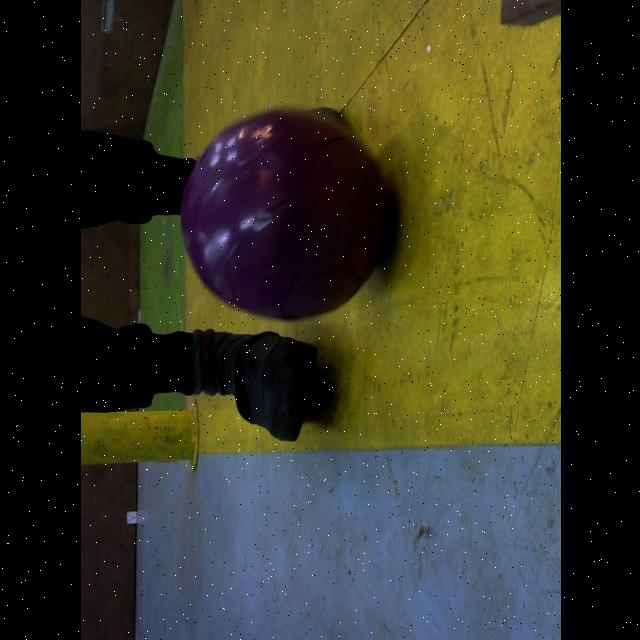P: (179, 110, 395, 322)
